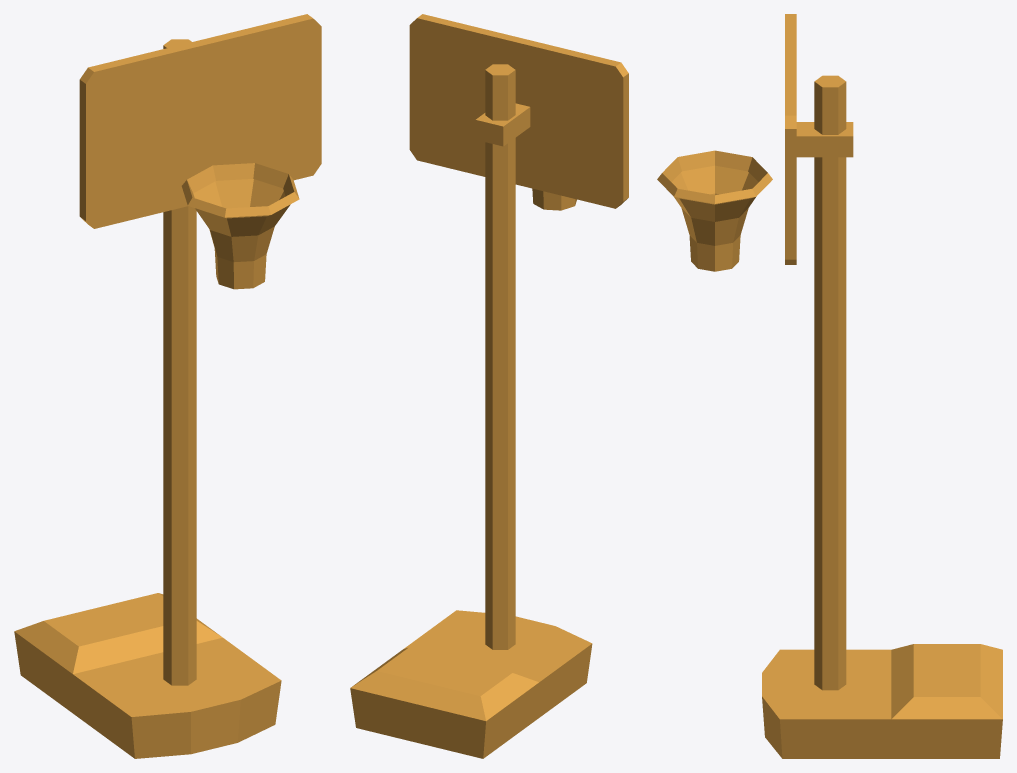
Rendered from basketball-stand.glb.
3 renders of one model, left to right at view 1: azimuth 30°, elevation 25°; view 2: azimuth 150°, elevation 25°; view 3: azimuth 270°, elevation 25°, orthographic. The views are drawn at different scales.
Parts seen in each view (by area): view 1: basketball-stand; view 2: basketball-stand; view 3: basketball-stand.
Boxes of the visible parts, box(x1,y1,x2,y2) form: basketball-stand: box(14, 14, 321, 758); basketball-stand: box(350, 14, 628, 758); basketball-stand: box(657, 14, 1002, 758).
Bounding box in the file's own units: 1.1 × 3.1 × 1.47.
